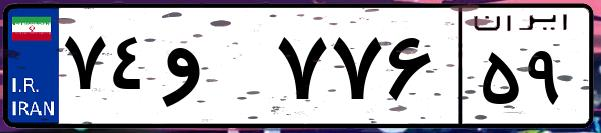4: (110, 28, 158, 98)
5: (475, 38, 525, 113)
6: (385, 28, 445, 110)
7: (270, 28, 330, 110), (330, 28, 385, 110), (57, 26, 110, 100)
9: (525, 38, 570, 115)
و: (158, 20, 270, 120)
